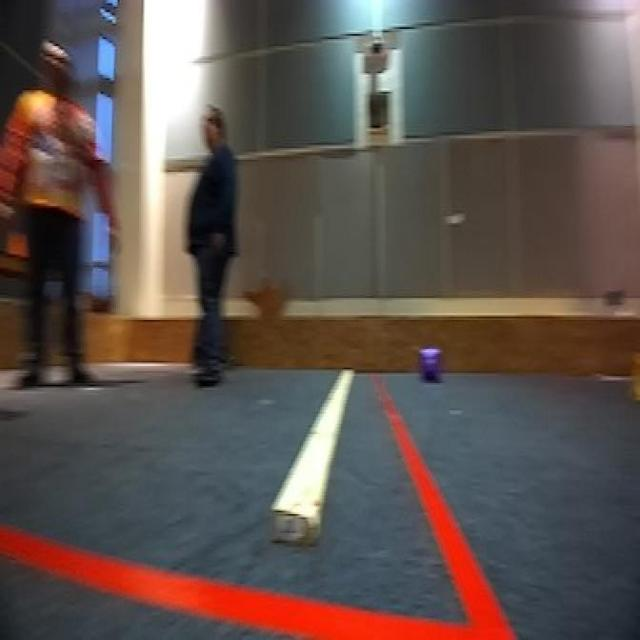frc_cube: (420, 346, 440, 383)
